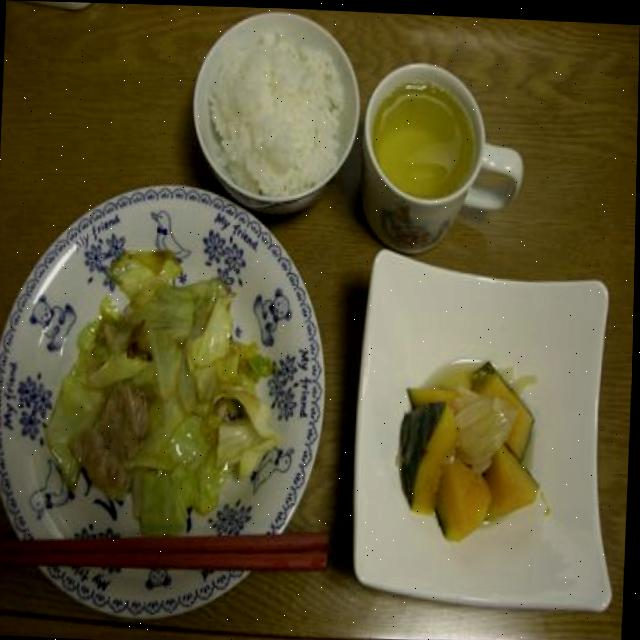蔬菜料理: (56, 233, 288, 570)
